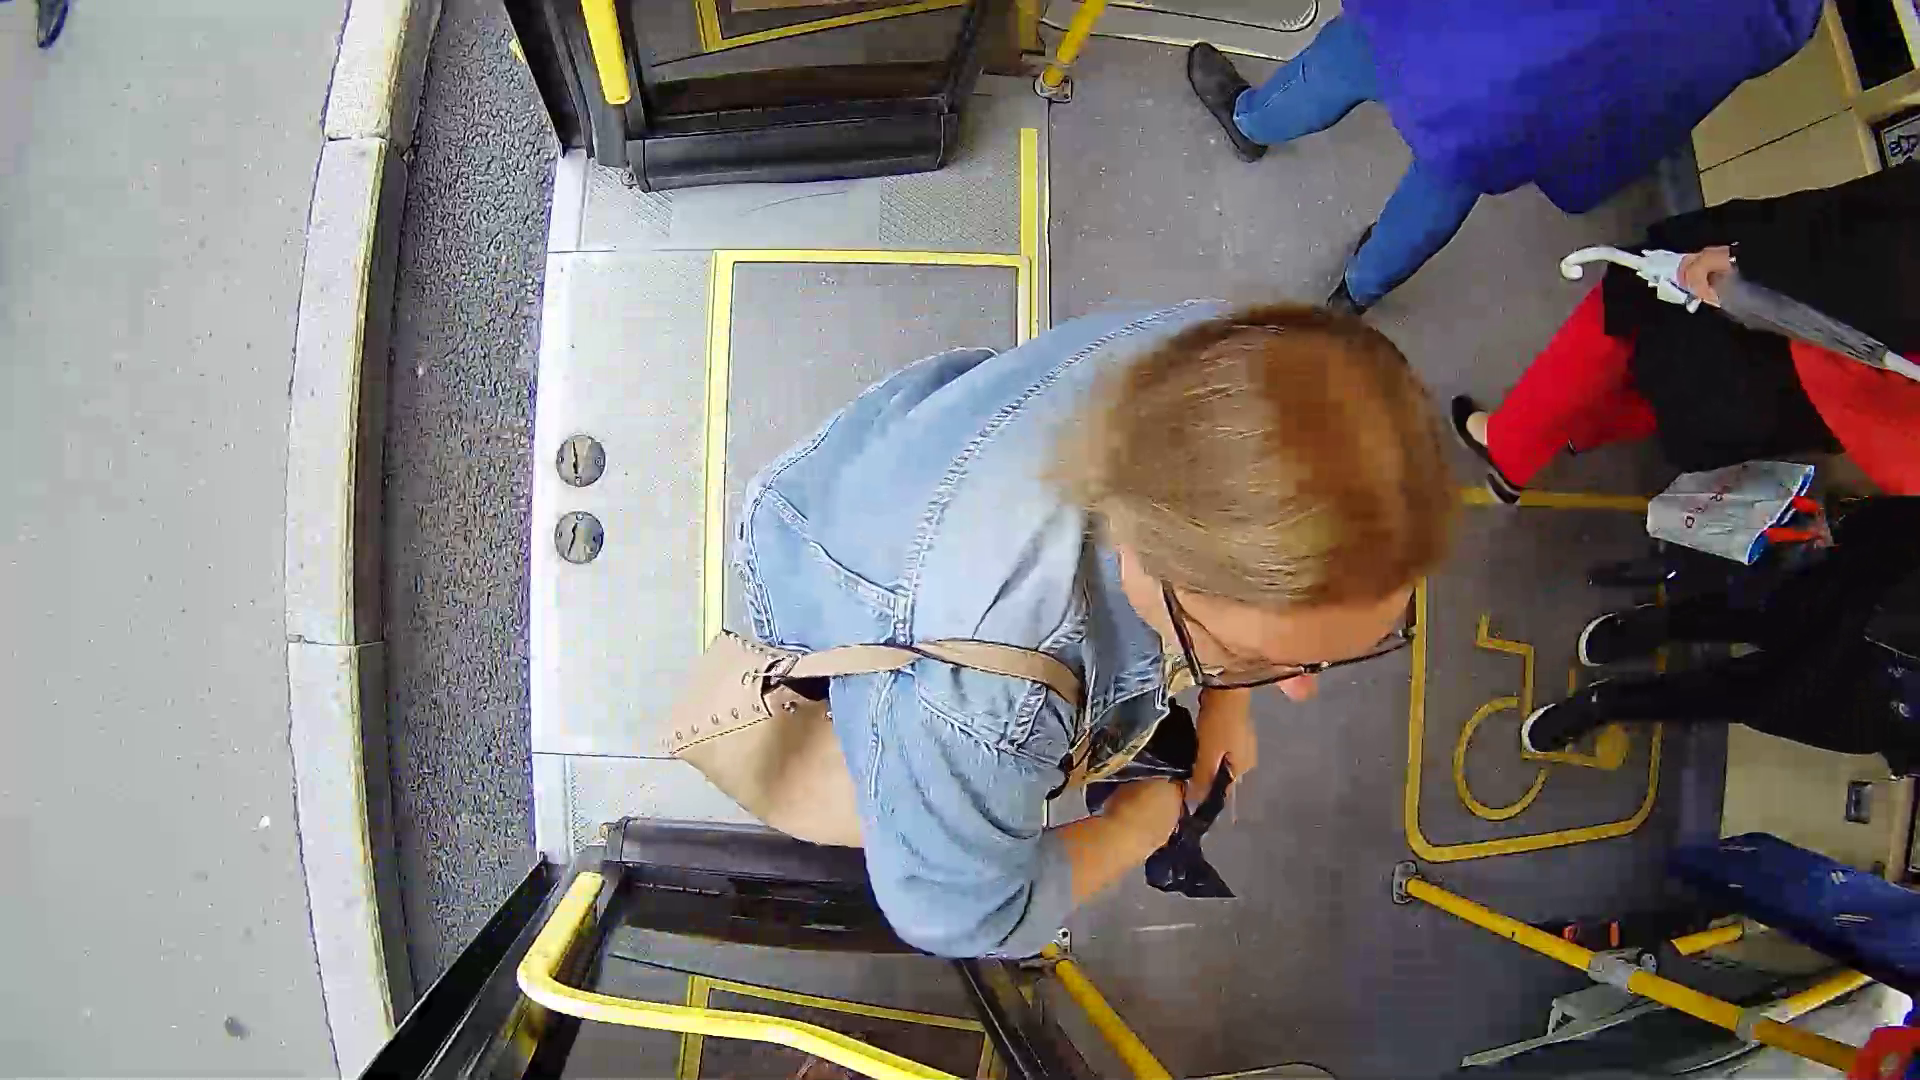person: (701, 270, 1509, 967)
